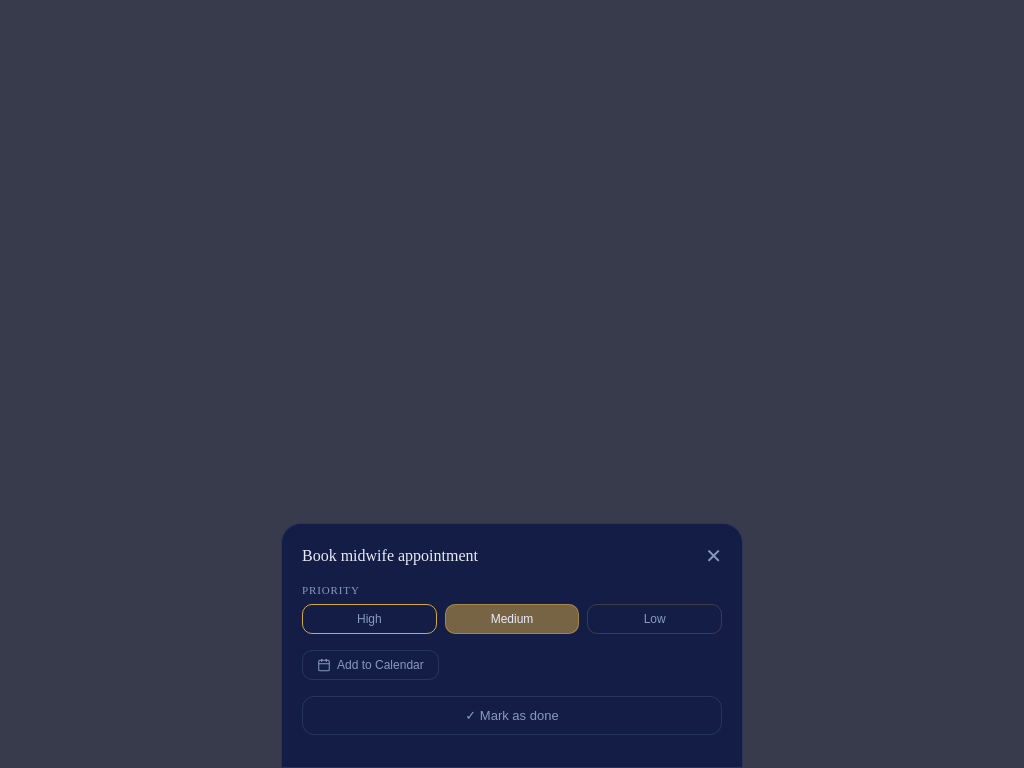
Test case: TaskModal › shows date picker after clicking 'Add to Calendar'
The width and height of the screenshot is (1024, 768).
Click the button with test id "calendar-add-btn" at x=370, y=665, box [302,650,439,680]
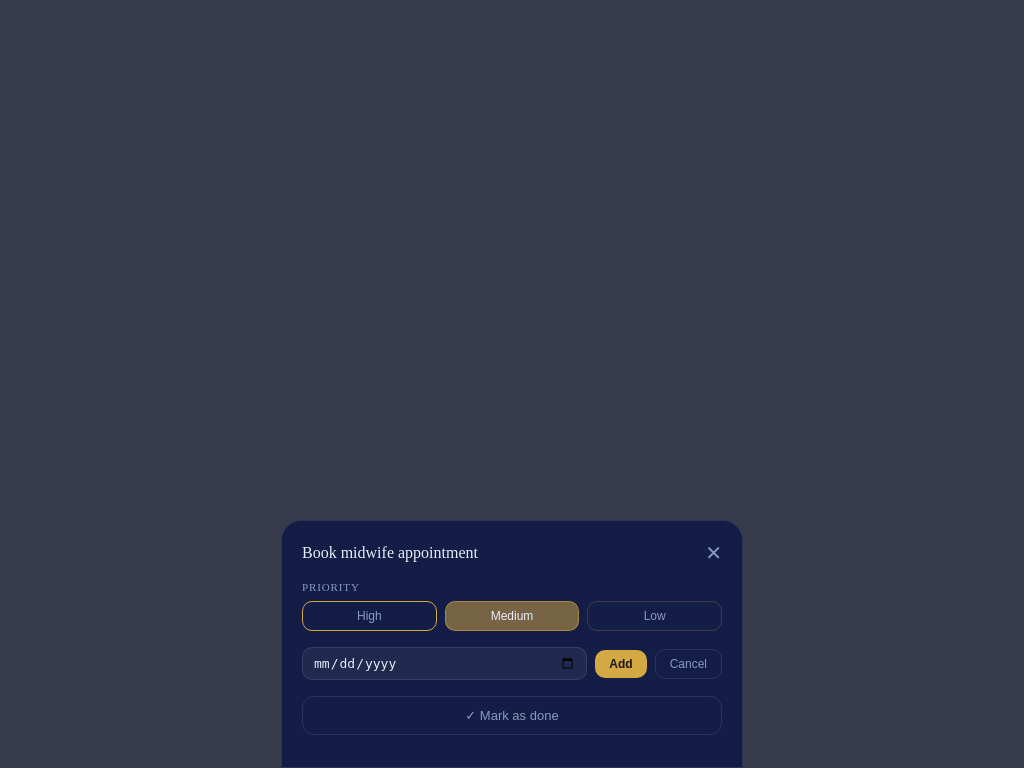
Now the date field with test id "calendar-date-input" is shown, box [302,647,587,680]
